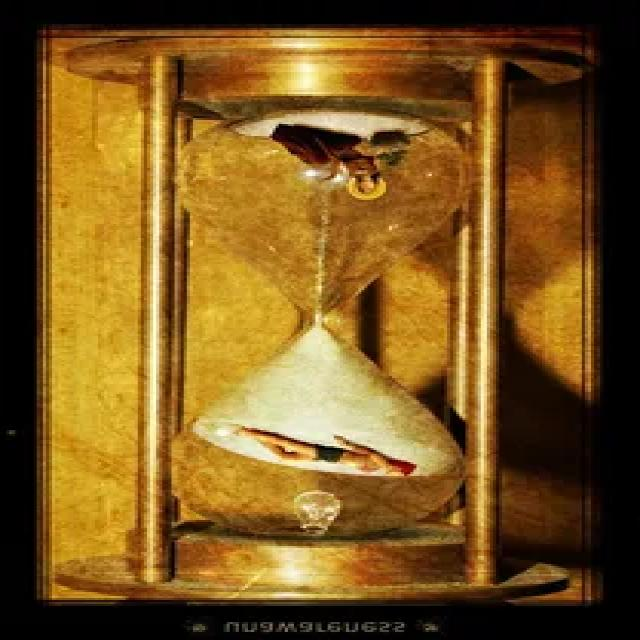clock: (97, 41, 543, 611)
